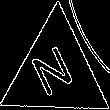N_SE: (30, 40, 83, 104)
